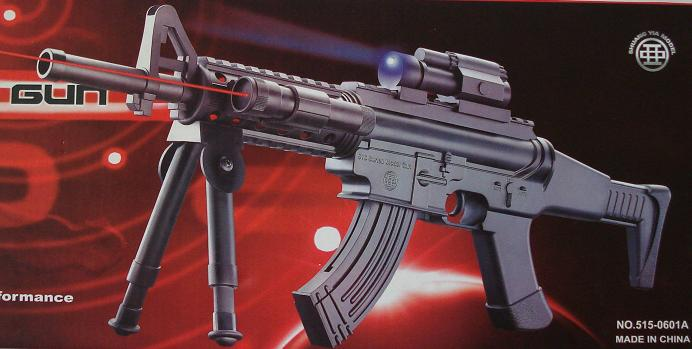rifle: (28, 25, 665, 288)
